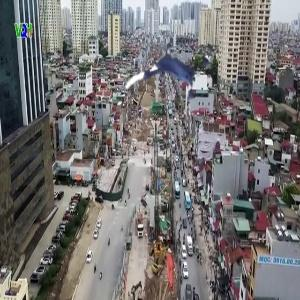drone: (128, 37, 210, 119)
